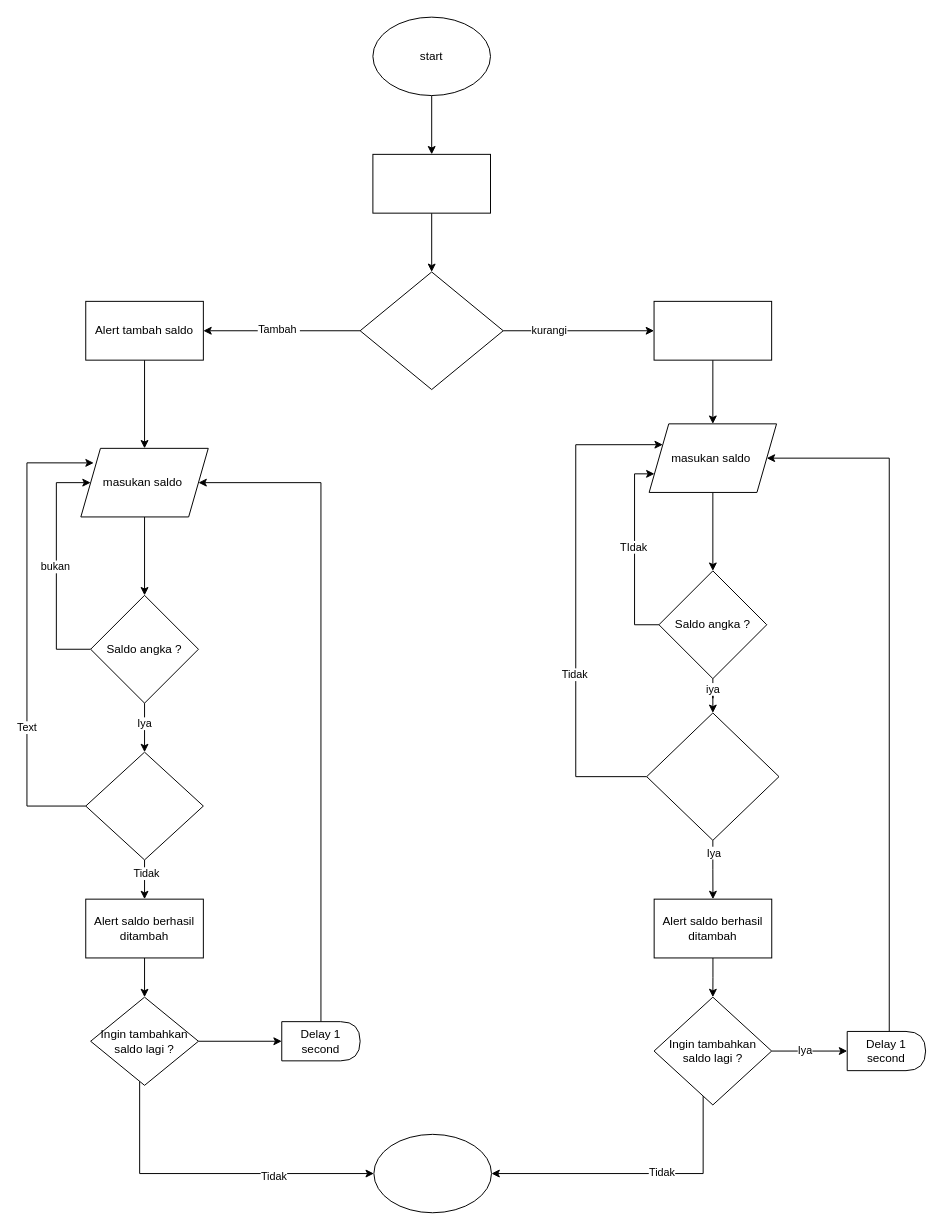
This 943x1230 diagram has some shape labels left out. The centre of each missing label's shape, as x and y in pixels:
Alert kurangi sado: (x=712, y=330)
Angka dibawah nol ? (minus): (x=144, y=805)
End: (x=432, y=1173)
index page: (x=431, y=183)
Jumlah angka melibih batas saldo: (x=712, y=776)
Tambah atau kurangi saldo ?: (x=431, y=330)
